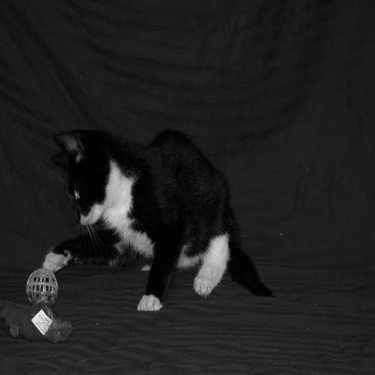cat: (36, 123, 273, 310)
